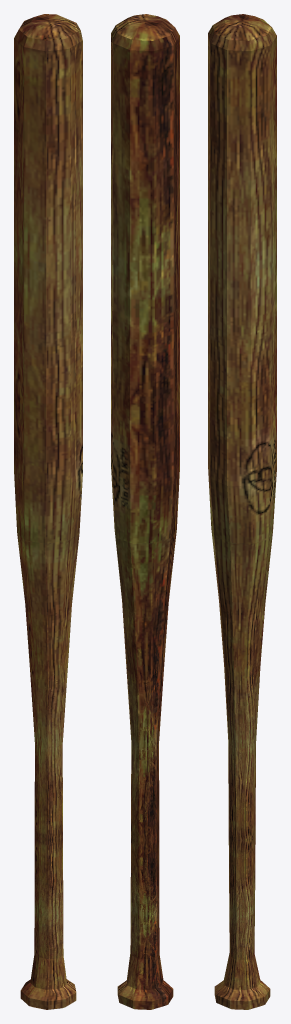
The model's file is BaseballBat.obj.
The picture shows the model from 3 angles, left to right: view 1: azimuth 30°, elevation 25°; view 2: azimuth 210°, elevation 25°; view 3: azimuth 330°, elevation 25°; orthographic projection.
Visible parts, largest first — view 1: BaseballBatClean:0; view 2: BaseballBatClean:0; view 3: BaseballBatClean:0.
Part boxes in pixels (left/top/right/bottom): BaseballBatClean:0: left=14, top=14, right=82, bottom=1009; BaseballBatClean:0: left=111, top=14, right=179, bottom=1009; BaseballBatClean:0: left=208, top=14, right=276, bottom=1009.
Bounding box in the file's own units: 0.2673 × 4.2 × 0.2673.
1 material, 1 textured.
